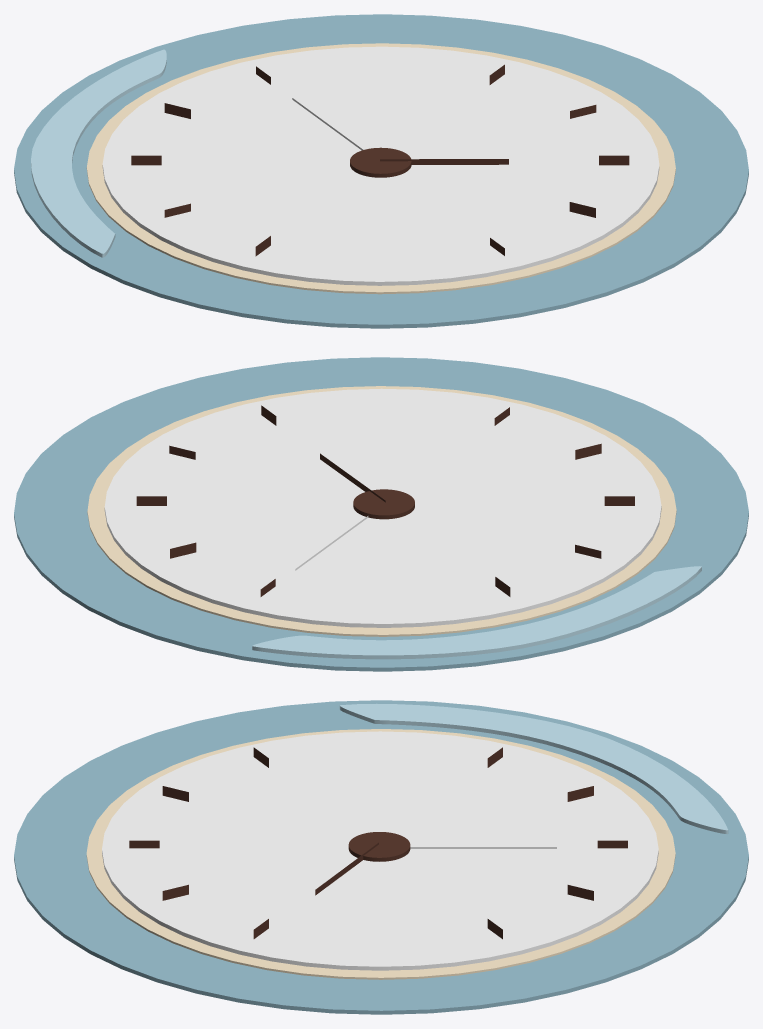
File: emoji_u1f553.glb
The picture shows the model from 3 angles, top to bottom: view 1: azimuth 30°, elevation 25°; view 2: azimuth 150°, elevation 25°; view 3: azimuth 270°, elevation 25°; orthographic projection.
Visible parts, largest first — view 1: emoji_u1f553; view 2: emoji_u1f553; view 3: emoji_u1f553.
Boxes of the visible parts, x1,y1,x2,y2 form: emoji_u1f553: (14, 14, 748, 328); emoji_u1f553: (14, 357, 748, 671); emoji_u1f553: (14, 700, 748, 1014).
Bounding box in the file's own units: 0.0339 × 0.0018 × 0.0339.
